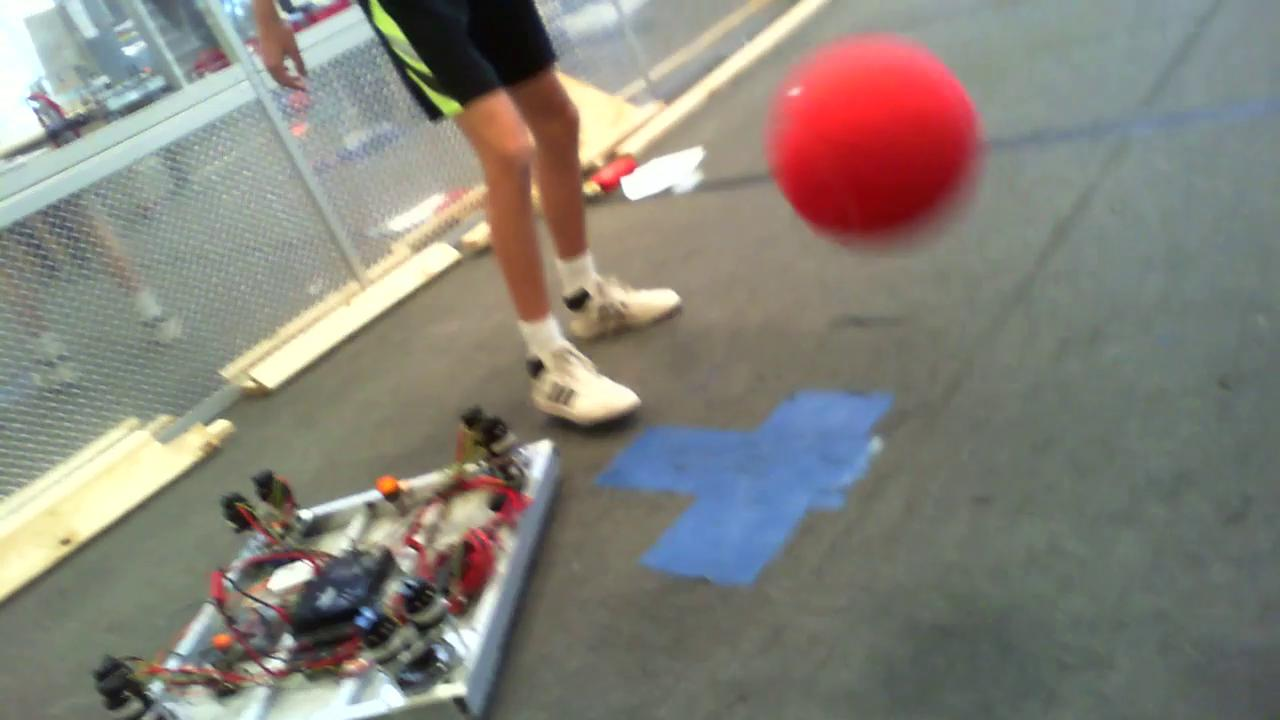Red_Ball: (750, 29, 997, 247)
